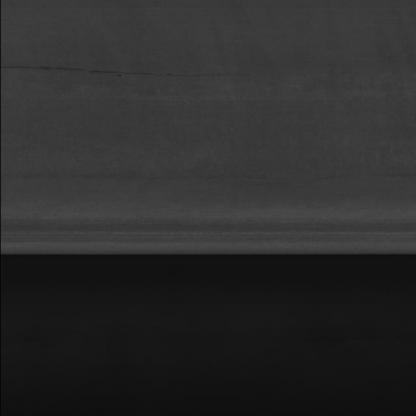inclusion: (2, 61, 272, 81)
